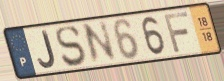6: (112, 16, 141, 63), (140, 15, 167, 57)
F: (162, 10, 191, 54)
J: (36, 29, 57, 70)
N: (81, 19, 119, 67)
S: (54, 24, 88, 69)
